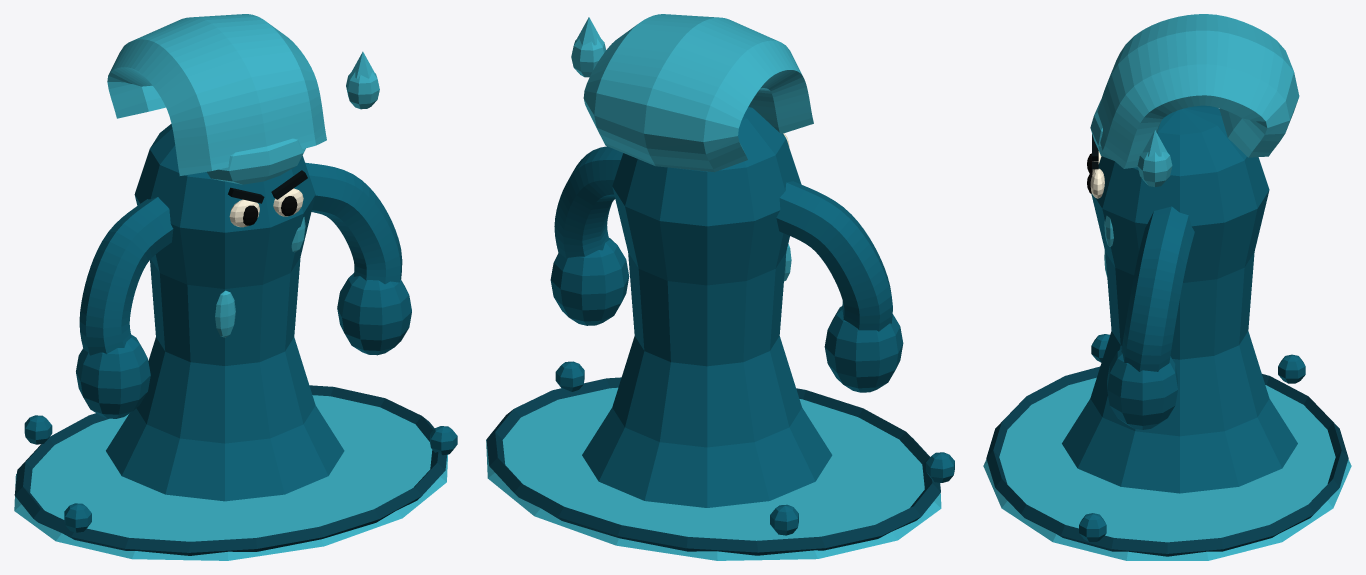
File: water-elemental.glb
The picture shows the model from 3 angles, left to right: view 1: azimuth 30°, elevation 25°; view 2: azimuth 150°, elevation 25°; view 3: azimuth 270°, elevation 25°; orthographic projection. The views are drawn at different scales.
Visible parts, largest first — view 1: body, puddle, crest, puddle_edge, arm_-1_0, arm_1_0, hand_1, hand_-1, crest_tip, drop_0, shine_-1, splash_2 (+2 smaller); view 2: body, puddle, crest, puddle_edge, arm_-1_0, arm_1_0, hand_1, hand_-1, drop_0, splash_0, splash_2, splash_1; view 3: body, puddle, crest, puddle_edge, arm_1_0, hand_1, drop_0, splash_2, splash_1.
Boxes of the visible parts, bbox=[...] form: body: bbox=[106, 124, 344, 501]; puddle: bbox=[14, 395, 447, 560]; crest: bbox=[107, 14, 326, 175]; puddle_edge: bbox=[14, 385, 446, 555]; arm_-1_0: bbox=[79, 197, 173, 355]; arm_1_0: bbox=[305, 162, 402, 284]; hand_1: bbox=[337, 273, 411, 355]; hand_-1: bbox=[76, 334, 150, 418]; crest_tip: bbox=[207, 138, 305, 184]; drop_0: bbox=[346, 72, 379, 109]; shine_-1: bbox=[215, 290, 235, 337]; splash_2: bbox=[24, 415, 52, 444]; body: bbox=[582, 106, 832, 507]; puddle: bbox=[486, 387, 941, 560]; crest: bbox=[583, 14, 813, 172]; puddle_edge: bbox=[486, 377, 940, 555]; arm_-1_0: bbox=[776, 181, 892, 331]; arm_1_0: bbox=[554, 146, 622, 258]; hand_1: bbox=[550, 238, 629, 325]; hand_-1: bbox=[824, 306, 903, 392]; drop_0: bbox=[571, 38, 606, 77]; splash_0: bbox=[926, 452, 954, 482]; splash_2: bbox=[770, 504, 798, 535]; splash_1: bbox=[555, 361, 584, 391]; body: bbox=[1062, 105, 1297, 493]; puddle: bbox=[983, 377, 1351, 560]; crest: bbox=[1097, 14, 1299, 168]; puddle_edge: bbox=[986, 366, 1348, 556]; arm_1_0: bbox=[1121, 206, 1194, 371]; hand_1: bbox=[1107, 349, 1177, 429]; drop_0: bbox=[1137, 152, 1172, 186]; splash_2: bbox=[1278, 354, 1305, 383]; splash_1: bbox=[1079, 513, 1106, 541].
Size of the model in its own units: 3.39 by 3.6 by 2.76.
